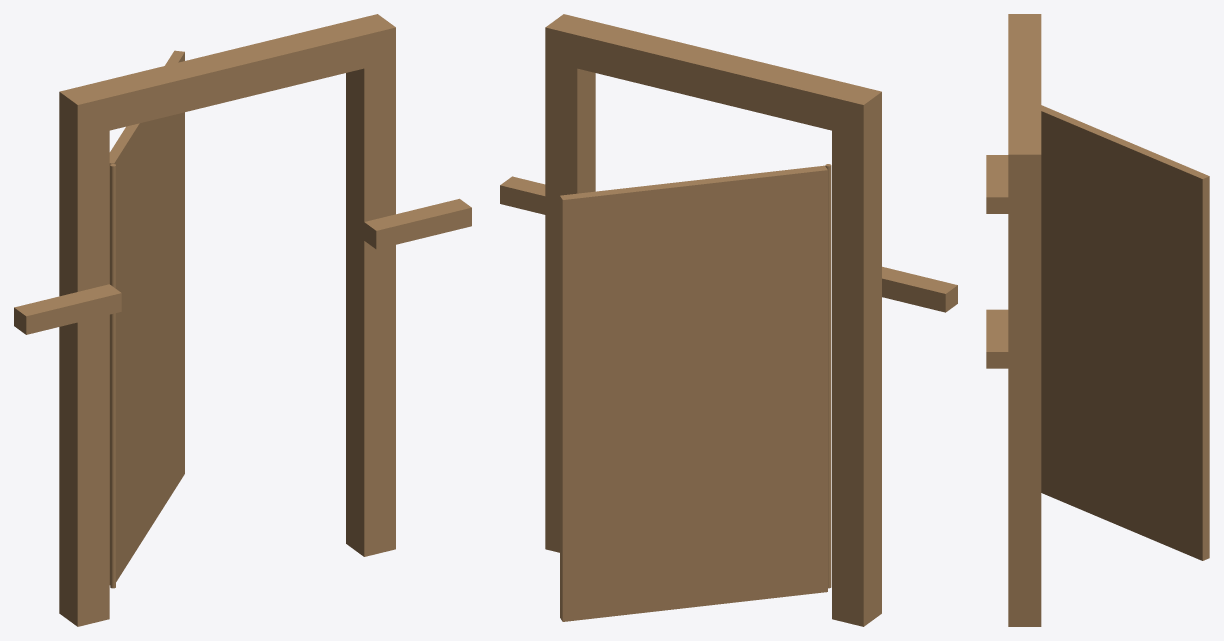
The model's file is assembly.glb.
3 renders of one model, left to right at view 1: azimuth 30°, elevation 25°; view 2: azimuth 150°, elevation 25°; view 3: azimuth 270°, elevation 25°, orthographic. The views are drawn at different scales.
Parts seen in each view (by area): view 1: GATE_Door, GATE_Post_Right, GATE_Post_Left, GATE_Beam, GATE_Connector_Right, GATE_Connector_Left, GATE_Axis; view 2: GATE_Door, GATE_Post_Left, GATE_Beam, GATE_Post_Right, GATE_Connector_Left, GATE_Axis, GATE_Connector_Right; view 3: GATE_Door, GATE_Post_Right, GATE_Beam, GATE_Connector_Right, GATE_Connector_Left.
Part boxes in pixels (<box>): GATE_Door: <box>109,50,184,584</box>; GATE_Post_Right: <box>346,61,395,556</box>; GATE_Post_Left: <box>59,125,109,626</box>; GATE_Beam: <box>59,14,395,138</box>; GATE_Connector_Right: <box>364,198,471,249</box>; GATE_Connector_Left: <box>14,284,121,334</box>; GATE_Axis: <box>110,164,115,588</box>; GATE_Door: <box>560,165,827,621</box>; GATE_Post_Left: <box>832,125,881,626</box>; GATE_Beam: <box>545,14,881,138</box>; GATE_Post_Right: <box>545,61,595,552</box>; GATE_Connector_Left: <box>882,266,957,312</box>; GATE_Axis: <box>825,164,831,588</box>; GATE_Connector_Right: <box>500,176,545,214</box>; GATE_Door: <box>1041,105,1209,560</box>; GATE_Post_Right: <box>1008,184,1041,626</box>; GATE_Beam: <box>1008,14,1041,184</box>; GATE_Connector_Right: <box>986,309,1008,368</box>; GATE_Connector_Left: <box>986,155,1008,213</box>.
Bounding box in the file's own units: 2.1 × 2.35 × 1.01.
